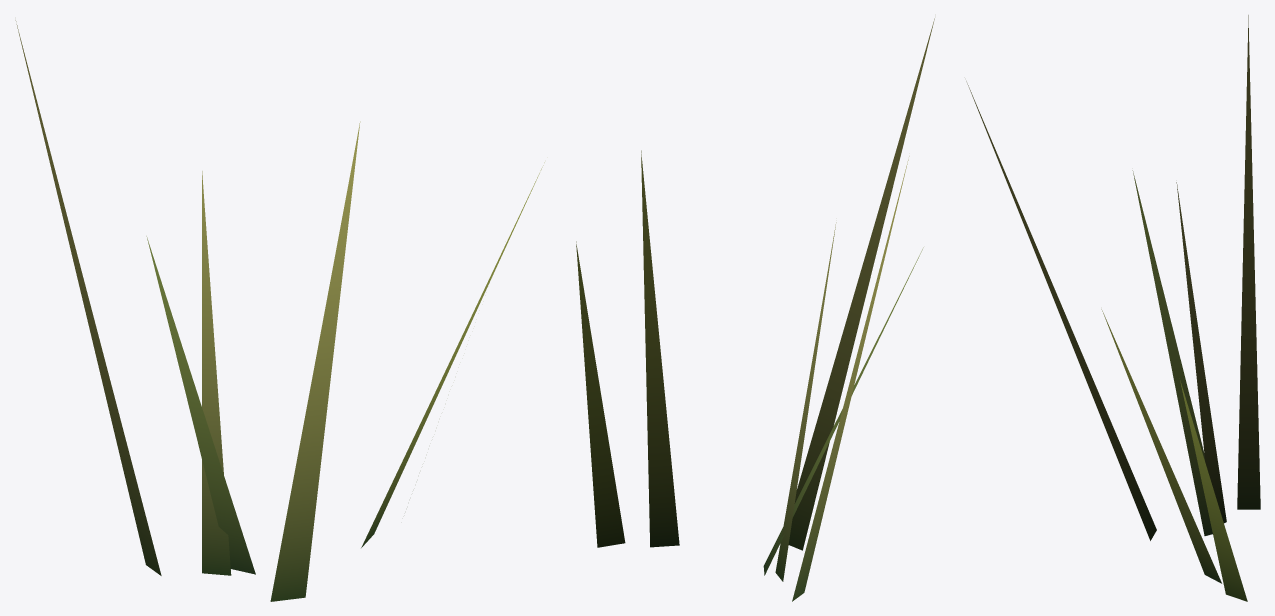
File: grass-meadow-a.lod2.glb
3 views of the same model, side by side, from view 1: azimuth 30°, elevation 25°; view 2: azimuth 150°, elevation 25°; view 3: azimuth 270°, elevation 25° (orthographic). The views are drawn at different scales.
Bounding box in the file's own units: 0.4198 × 0.5115 × 0.3094.
